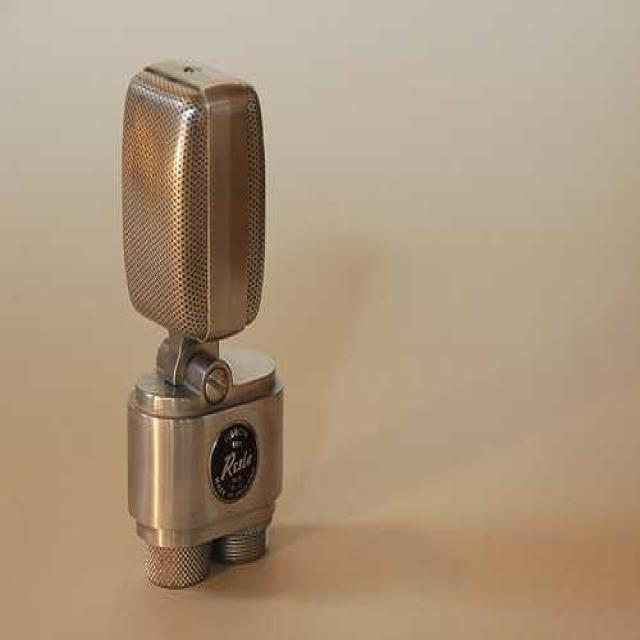microphone: (102, 60, 284, 403)
